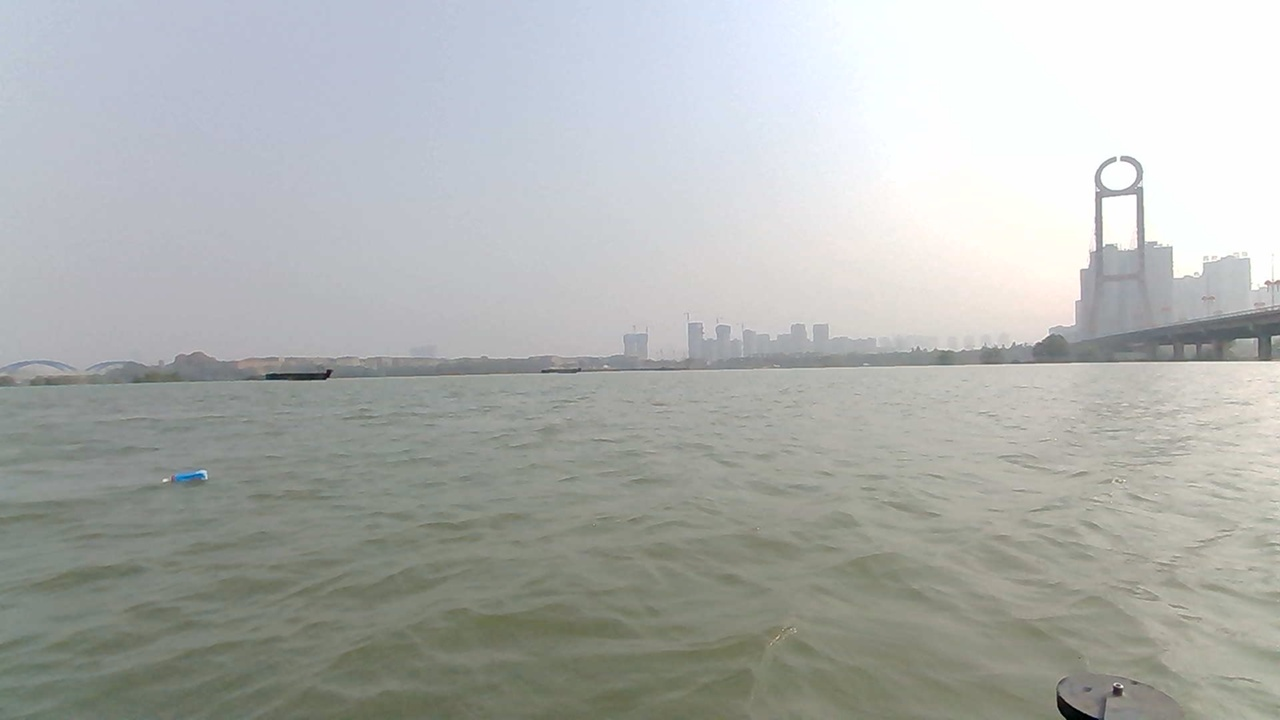bottle: (162, 466, 217, 492)
